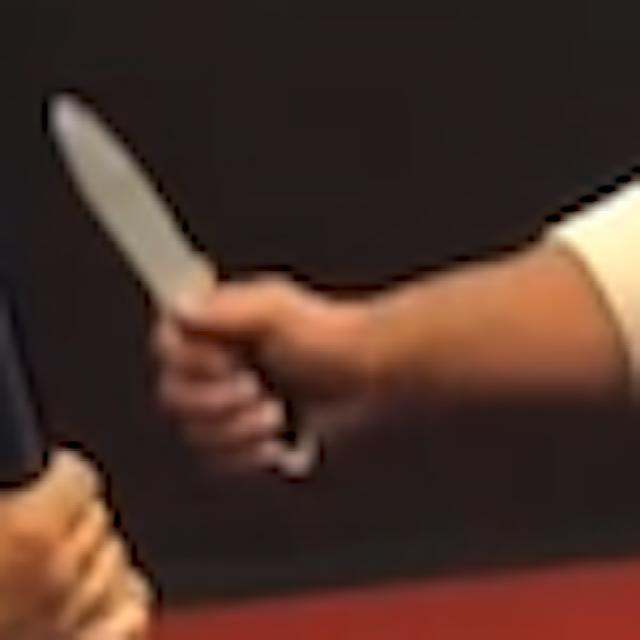suspicion: (37, 70, 635, 503), (44, 79, 210, 293)
